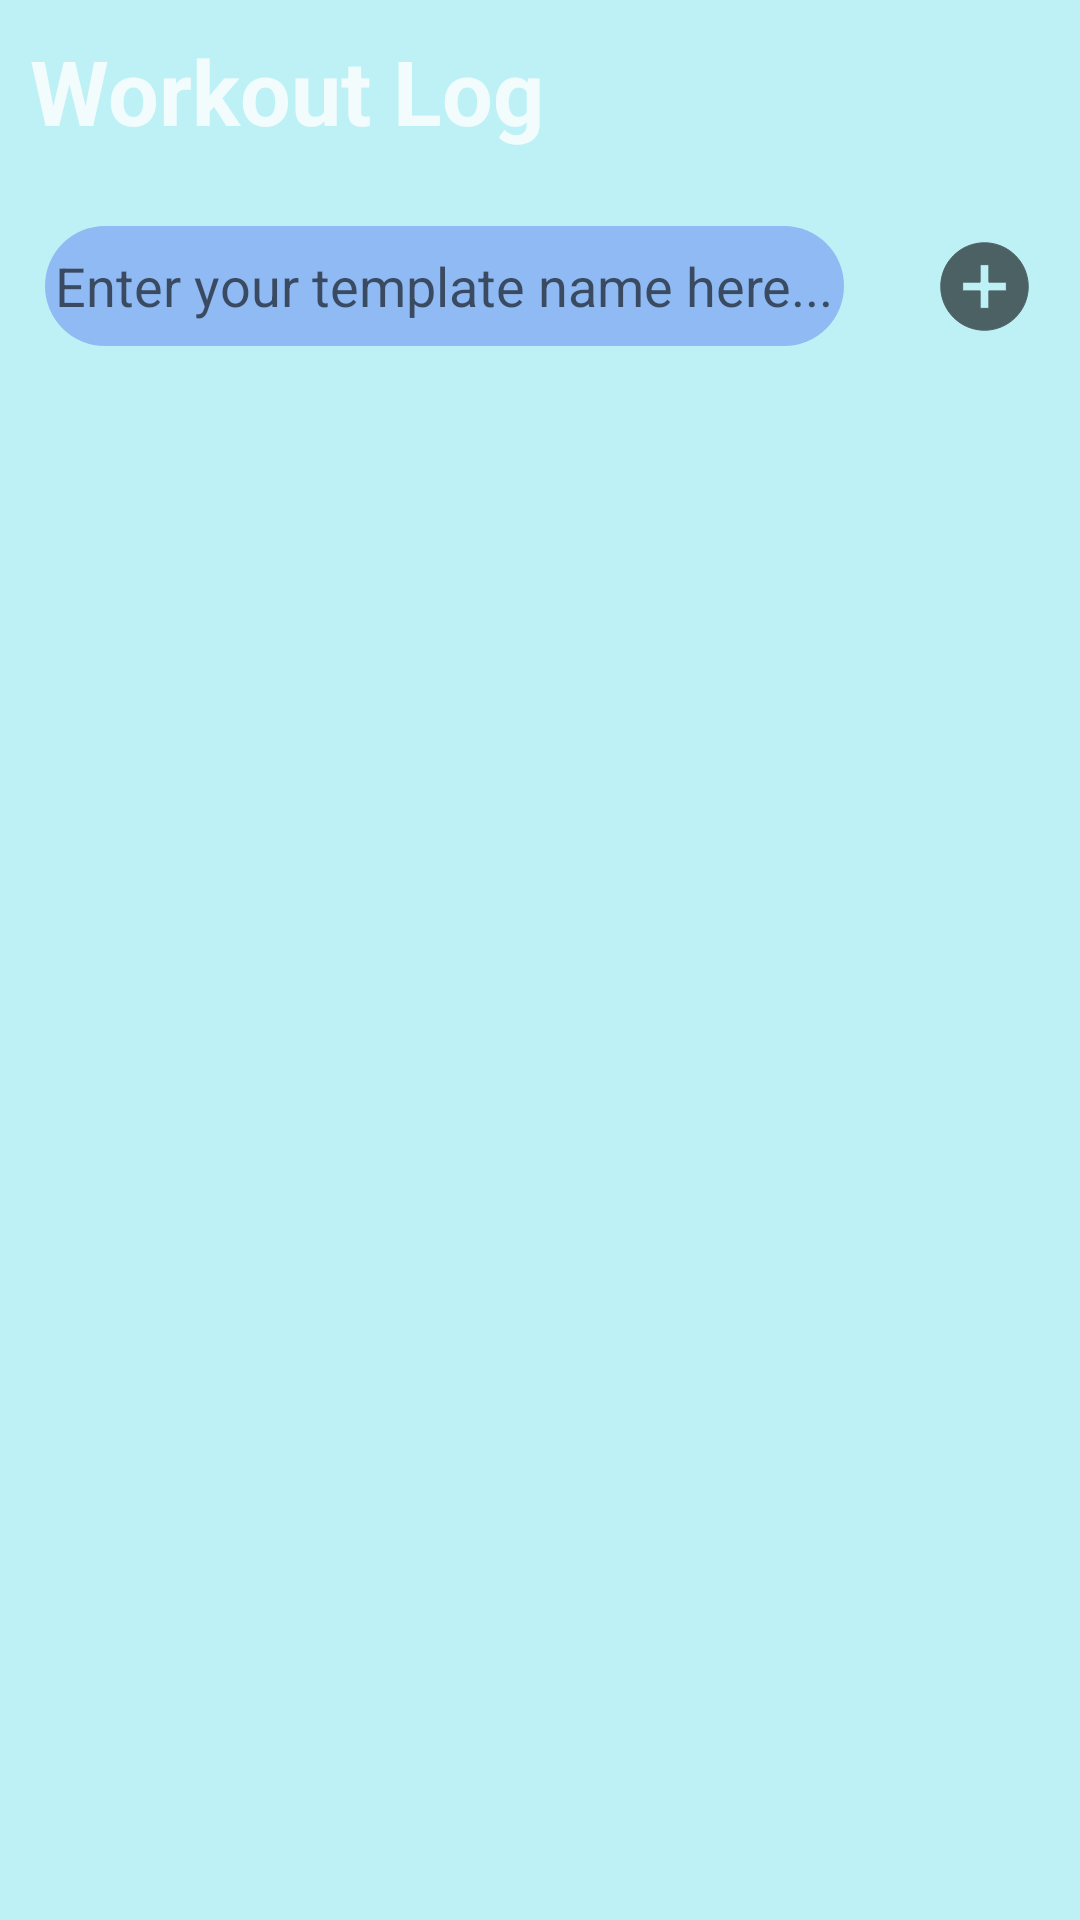

Locate icon controls on the screen. Image size 1080x1920, boxes as region(x1, y1, x2, y2).
add circle: region(940, 242, 1029, 331)
